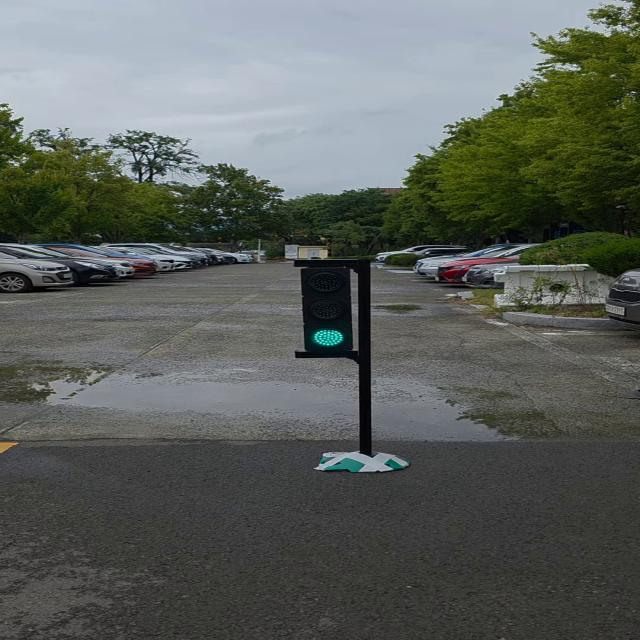green: (304, 261, 357, 357)
